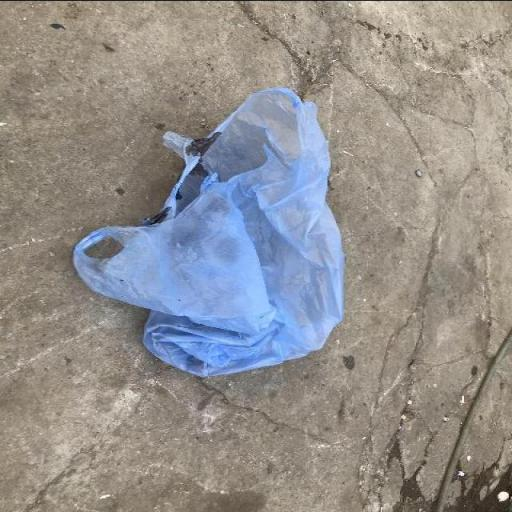plastic-bag: (68, 85, 348, 378)
